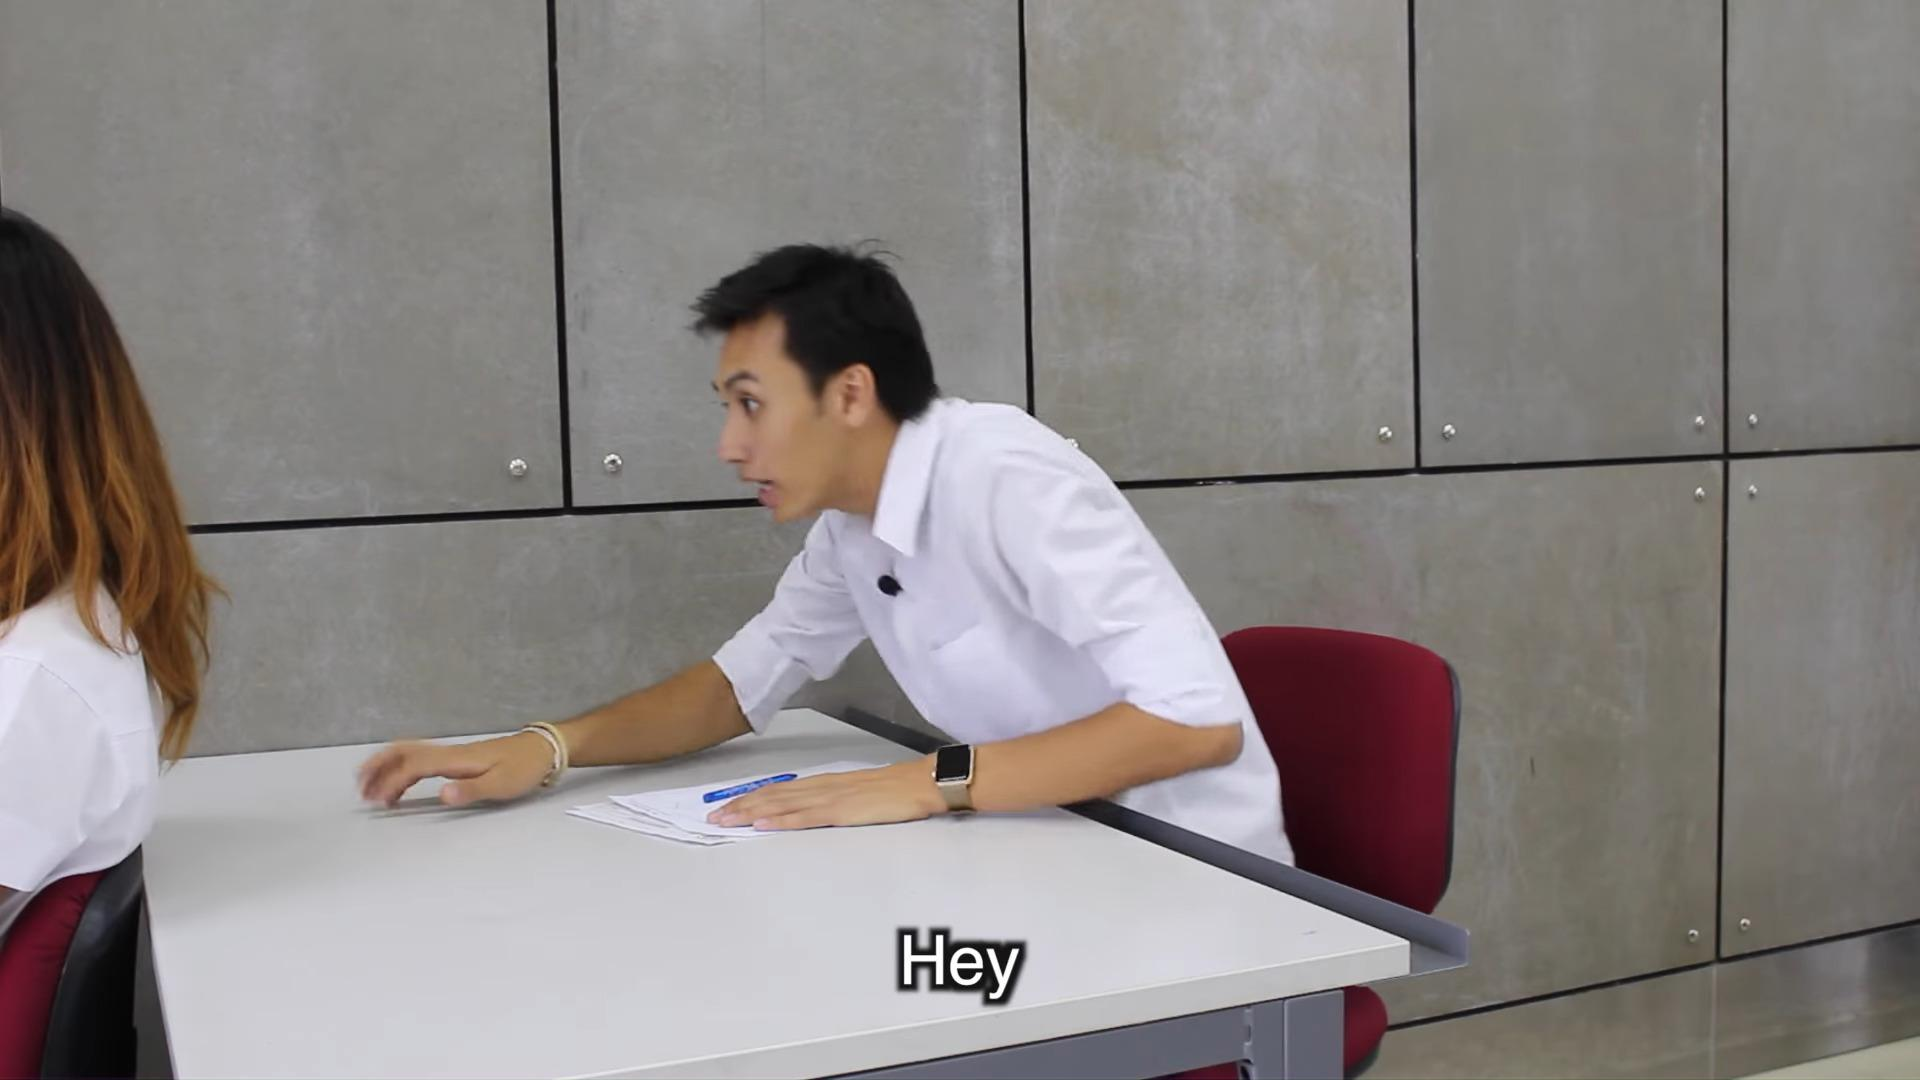cheating: (326, 223, 1323, 899)
